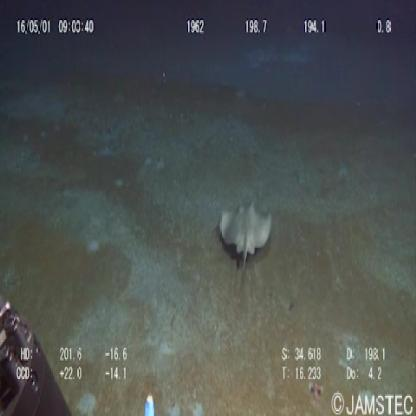Bio: (215, 197, 276, 299)
Rov: (1, 297, 75, 416)
